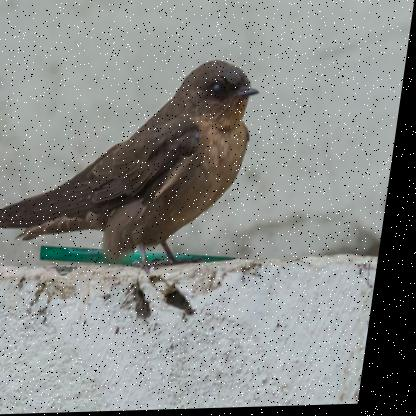Burung: (0, 59, 266, 280)
